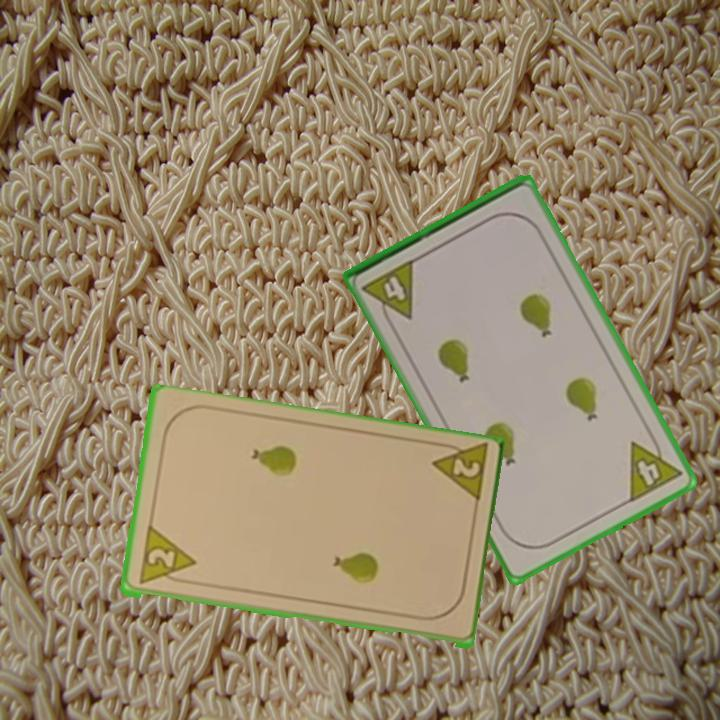2p: (427, 439, 491, 508), (135, 525, 198, 588)
4p: (625, 428, 685, 506), (359, 255, 418, 330)
